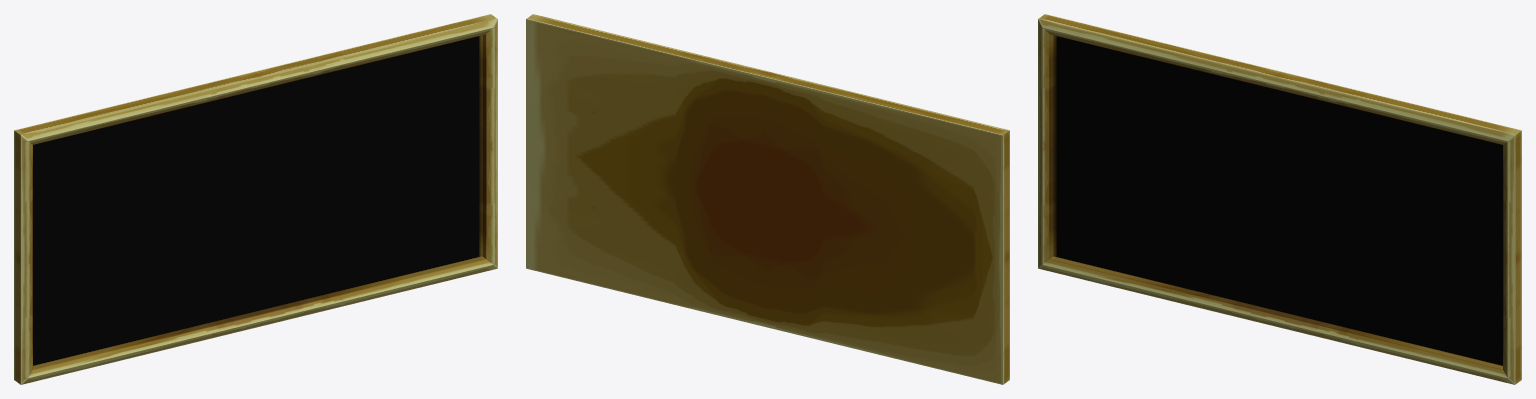
File: frame_rectangle.fbx
3 views of the same model, side by side, from view 1: azimuth 30°, elevation 25°; view 2: azimuth 150°, elevation 25°; view 3: azimuth 330°, elevation 25° (orthographic).
Visible parts, largest first — view 1: Frame1.004; view 2: Frame1.004; view 3: Frame1.004.
Part boxes in pixels (x1,y1,x2,y2): Frame1.004: (14, 14, 497, 384); Frame1.004: (526, 14, 1009, 384); Frame1.004: (1038, 14, 1521, 384).
Bounding box in the file's own units: 200 × 100 × 6.
Materials: 1 (1 with a texture image).
